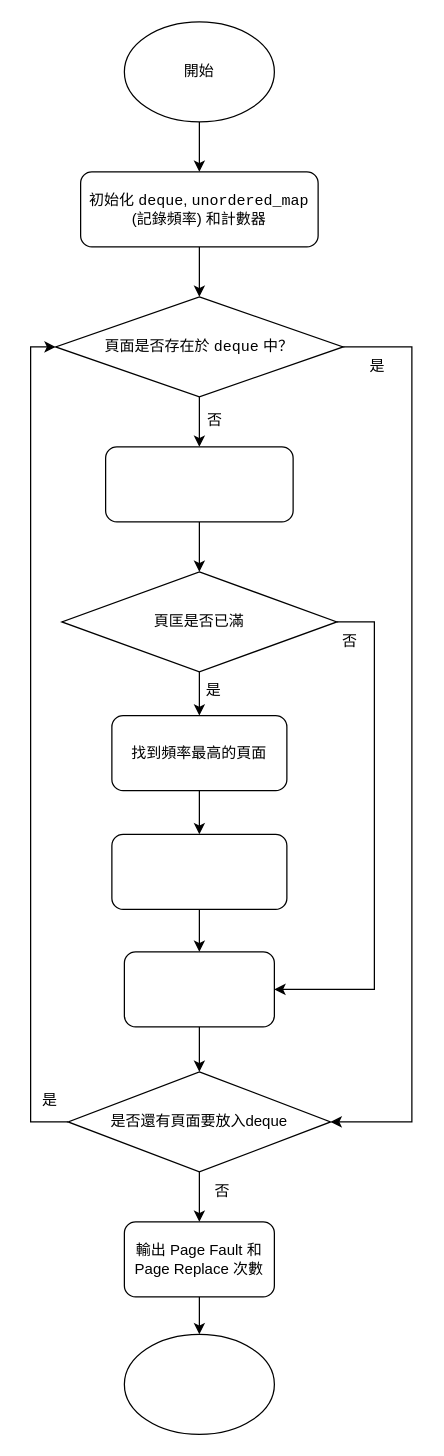
Image size: 444x1456. Some labels were removed from this diagram. Each missing label, with the centre of its shape:
"增加 Page Fault 計數" belongs at (x=198, y=484).
"新頁面加入 deque ，頻率設為 1" belongs at (x=198, y=989).
"結束" belongs at (x=198, y=1383).
"若有多個頁面頻率相同， 按 FIFO 移除最早的頁面" belongs at (x=199, y=871).
